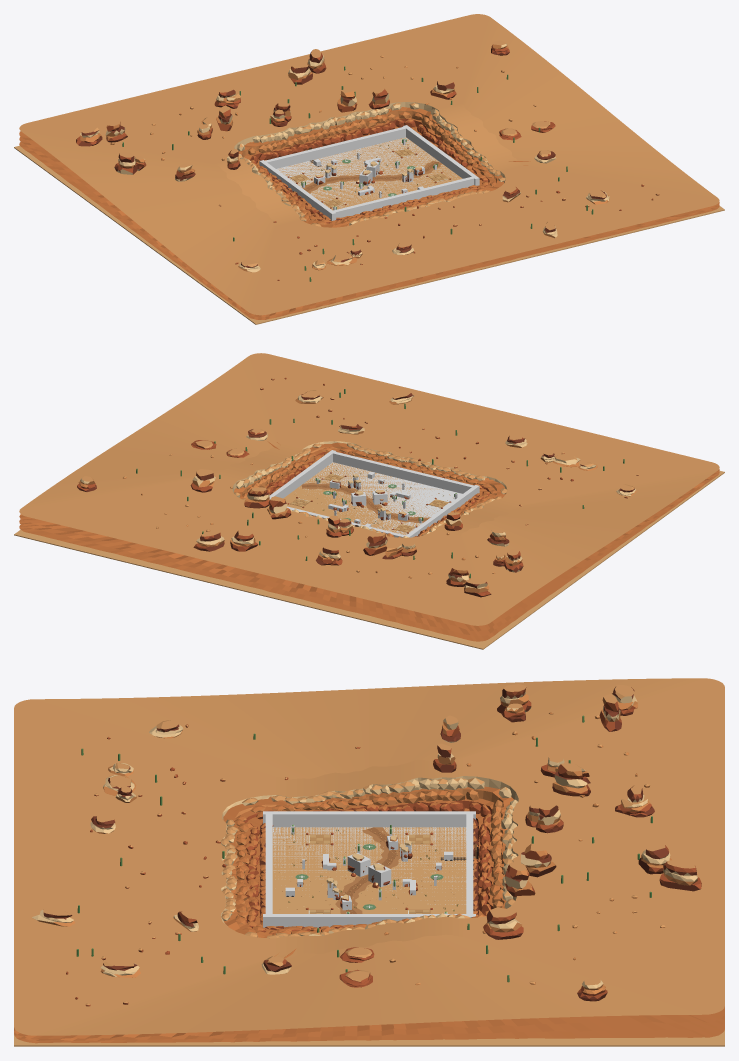
File: Canyon.fbx
The picture shows the model from 3 angles, top to bottom: view 1: azimuth 30°, elevation 25°; view 2: azimuth 150°, elevation 25°; view 3: azimuth 270°, elevation 25°; orthographic projection. The views are drawn at different scales.
Visible parts, largest first — view 1: ART_CY_Plateau_D99A5E, ART_CY_Ledge_C9773F, ART_CY_Sand_DCA66B, ART_CY_Rust_A9532F, ART_CY_Pale_EBC48D, ART_CY_Orange_D2854A, COL_Ground, ART_CY_CliffBase_7A3B26, COL_WallN, COL_WallS, COL_WallE, COL_WallW (+1 smaller); view 2: ART_CY_Plateau_D99A5E, ART_CY_Ledge_C9773F, ART_CY_Sand_DCA66B, ART_CY_Pale_EBC48D, COL_Ground, ART_CY_Orange_D2854A, ART_CY_Rust_A9532F, ART_CY_CliffBase_7A3B26, COL_WallS, COL_WallE, COL_WallW; view 3: ART_CY_Plateau_D99A5E, ART_CY_Ledge_C9773F, ART_CY_Sand_DCA66B, ART_CY_Pale_EBC48D, ART_CY_Rust_A9532F, ART_CY_Orange_D2854A, ART_CY_CliffBase_7A3B26, COL_WallW, COL_Ground, COL_WallE, ART_CY_Riverbed_BD8250, COL_WallN (+2 smaller).
Part boxes in pixels (bbox=[...]): ART_CY_Plateau_D99A5E: bbox=[19, 14, 719, 315]; ART_CY_Ledge_C9773F: bbox=[19, 107, 719, 319]; ART_CY_Sand_DCA66B: bbox=[14, 137, 724, 324]; ART_CY_Rust_A9532F: bbox=[76, 45, 659, 280]; ART_CY_Pale_EBC48D: bbox=[80, 43, 609, 272]; ART_CY_Orange_D2854A: bbox=[80, 44, 608, 272]; COL_Ground: bbox=[276, 137, 462, 209]; ART_CY_CliffBase_7A3B26: bbox=[78, 48, 606, 267]; COL_WallN: bbox=[265, 126, 407, 168]; COL_WallS: bbox=[329, 176, 477, 217]; COL_WallE: bbox=[402, 125, 479, 185]; COL_WallW: bbox=[259, 160, 336, 220]; ART_CY_Plateau_D99A5E: bbox=[19, 353, 719, 625]; ART_CY_Ledge_C9773F: bbox=[19, 441, 719, 641]; ART_CY_Sand_DCA66B: bbox=[14, 462, 724, 649]; ART_CY_Pale_EBC48D: bbox=[80, 394, 635, 588]; COL_Ground: bbox=[304, 462, 462, 535]; ART_CY_Orange_D2854A: bbox=[78, 396, 636, 592]; ART_CY_Rust_A9532F: bbox=[77, 377, 638, 595]; ART_CY_CliffBase_7A3B26: bbox=[77, 392, 634, 597]; COL_WallS: bbox=[331, 451, 477, 493]; COL_WallE: bbox=[269, 450, 336, 499]; COL_WallW: bbox=[406, 485, 479, 537]; ART_CY_Plateau_D99A5E: bbox=[14, 678, 724, 1035]; ART_CY_Ledge_C9773F: bbox=[14, 786, 724, 1043]; ART_CY_Sand_DCA66B: bbox=[14, 827, 724, 1046]; ART_CY_Pale_EBC48D: bbox=[32, 691, 697, 988]; ART_CY_Rust_A9532F: bbox=[66, 687, 701, 1006]; ART_CY_Orange_D2854A: bbox=[33, 693, 697, 994]; ART_CY_CliffBase_7A3B26: bbox=[43, 687, 700, 1001]; COL_WallW: bbox=[263, 811, 475, 827]; COL_Ground: bbox=[273, 827, 466, 909]; COL_WallE: bbox=[263, 914, 475, 927]; ART_CY_Riverbed_BD8250: bbox=[335, 827, 401, 913]; COL_WallN: bbox=[466, 811, 473, 916].
Size of the model in its own units: 224 by 17.58 by 200.
